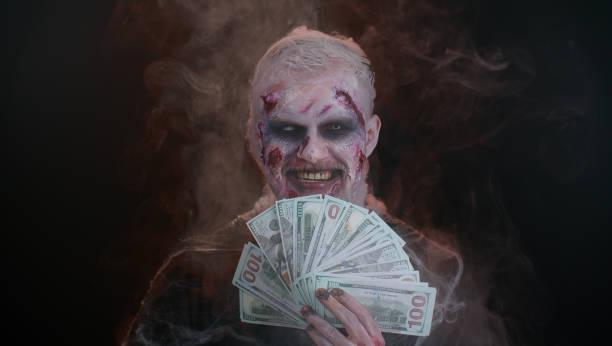Zombie: (250, 48, 372, 214)
